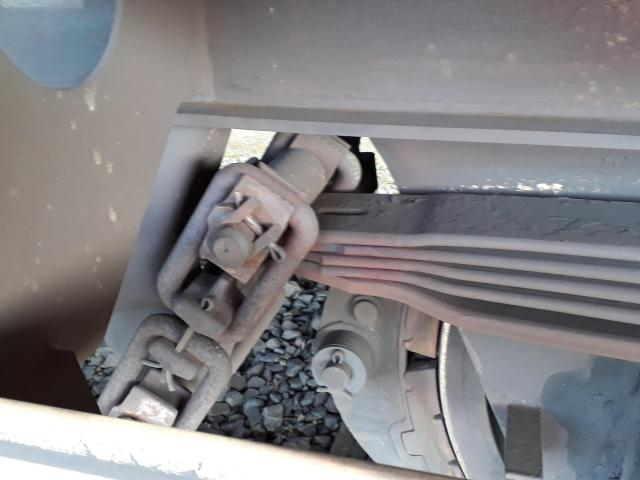blattfederww: (325, 188, 640, 348)
